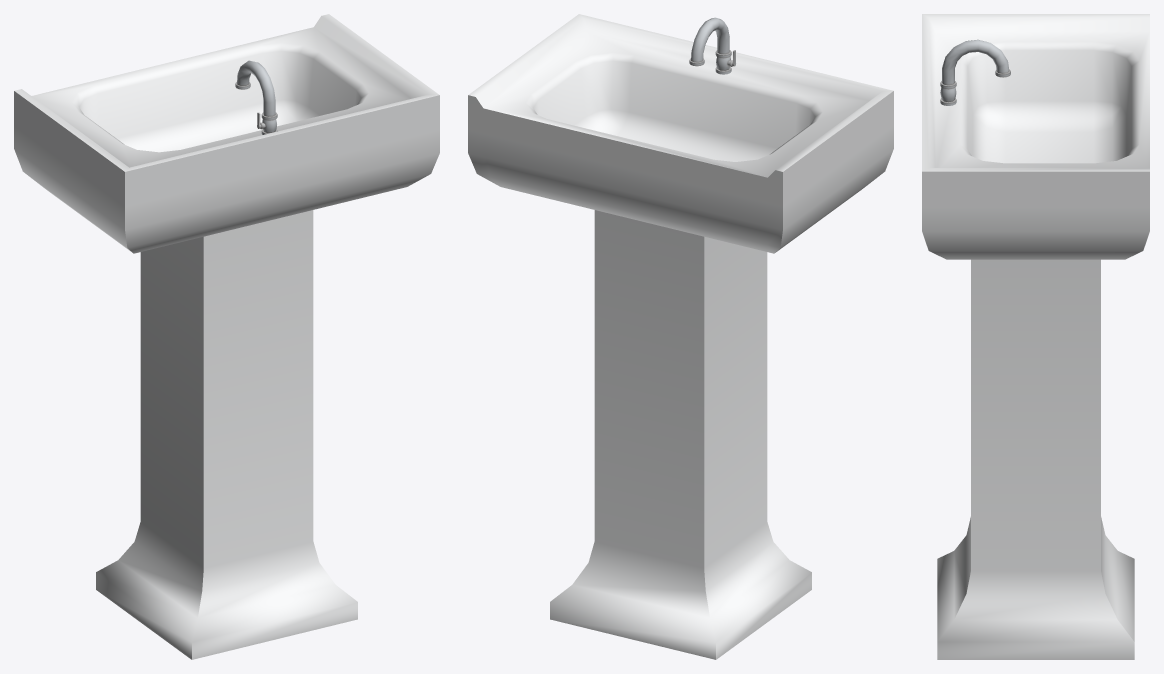
The model's file is Sink_C.fbx.
The picture shows the model from 3 angles, left to right: view 1: azimuth 30°, elevation 25°; view 2: azimuth 150°, elevation 25°; view 3: azimuth 270°, elevation 25°; orthographic projection. The views are drawn at different scales.
Visible parts, largest first — view 1: Sink_C; view 2: Sink_C; view 3: Sink_C.
Part boxes in pixels (bbox=[...]): Sink_C: bbox=[14, 14, 439, 659]; Sink_C: bbox=[468, 14, 893, 659]; Sink_C: bbox=[922, 14, 1149, 659].
Size of the model in its own units: 0.5 by 0.305 by 0.8546.
